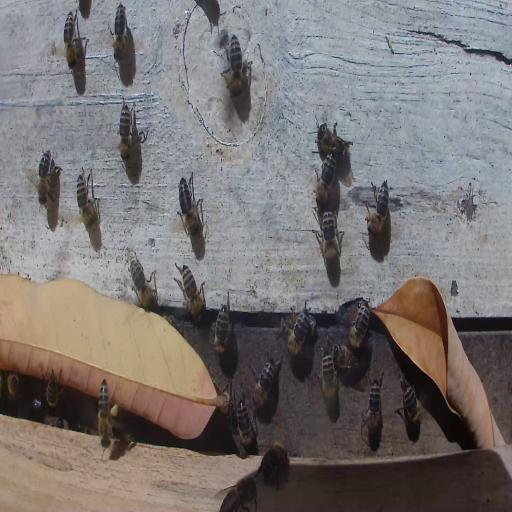nonpollenbee: (174, 264, 205, 321), (129, 255, 159, 311), (258, 441, 291, 490), (178, 172, 202, 239), (364, 179, 391, 236), (318, 208, 342, 269), (252, 358, 279, 410), (314, 121, 350, 159), (287, 306, 314, 356), (76, 173, 98, 233), (398, 377, 422, 432), (235, 396, 256, 458), (220, 475, 256, 511), (332, 340, 368, 376), (314, 150, 337, 206), (224, 35, 244, 97), (277, 311, 318, 340), (321, 347, 339, 413), (364, 378, 382, 440), (332, 343, 362, 377), (348, 303, 370, 349), (118, 101, 134, 163), (111, 2, 127, 59), (214, 301, 230, 357), (36, 150, 51, 206), (64, 10, 77, 72), (46, 374, 59, 410), (7, 370, 20, 404), (30, 396, 46, 416)
pollenbee: (97, 376, 119, 450)
